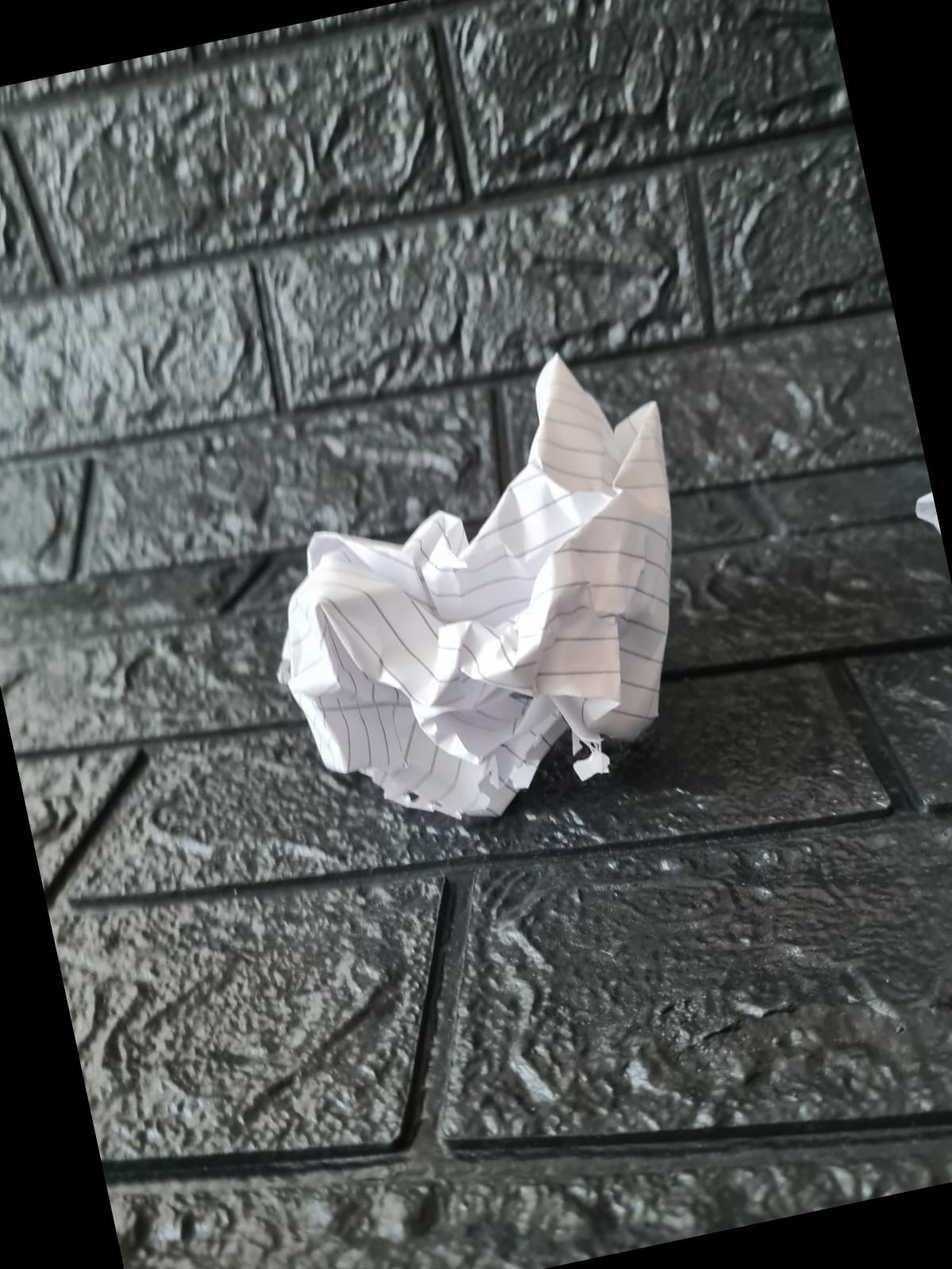Kertas: (260, 363, 670, 833)
